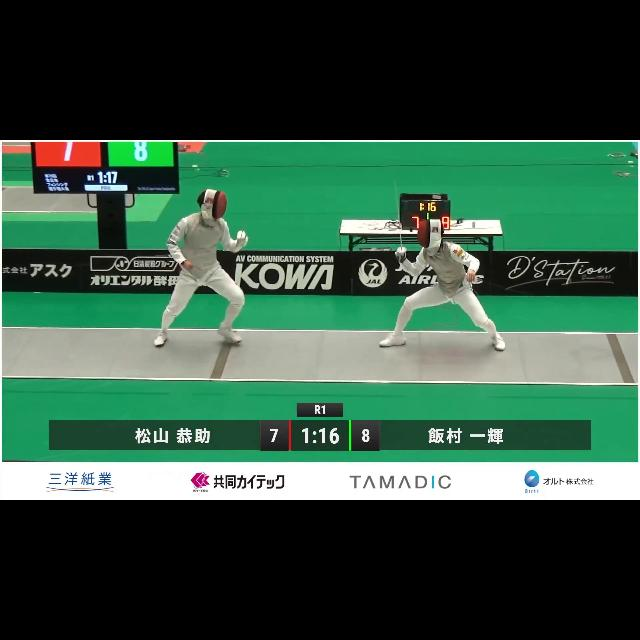blade: (386, 178, 410, 256)
